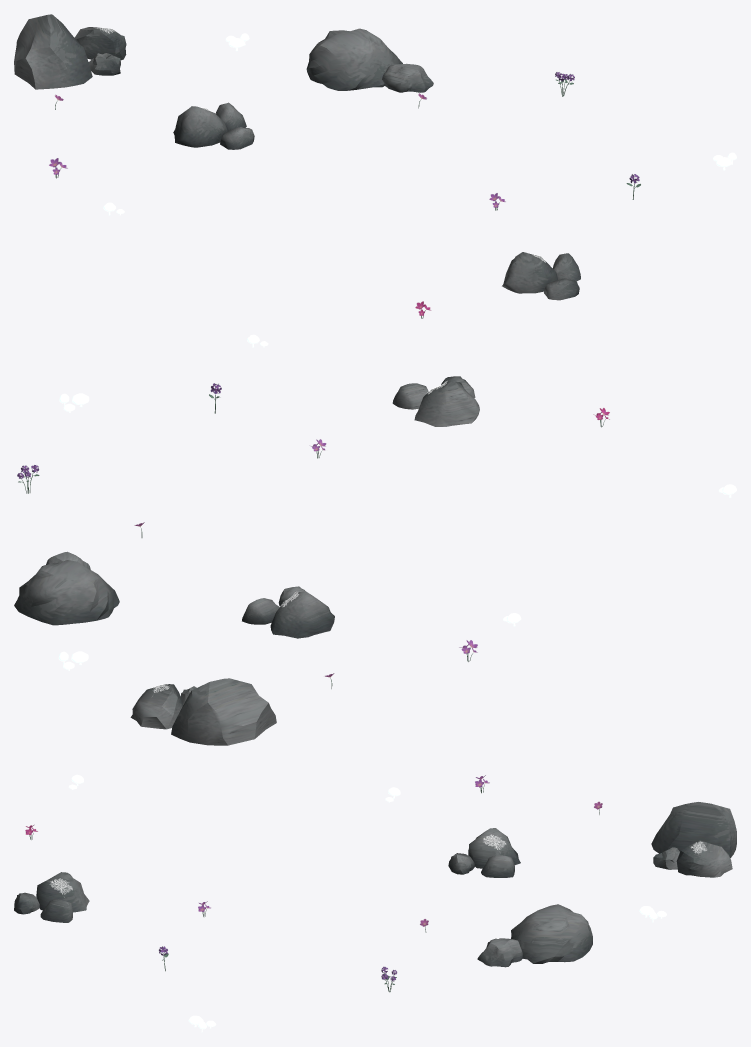
File: chapter1.glb
3 views of the same model, one above another, from view 1: azimuth 30°, elevation 25°; view 2: azimuth 150°, elevation 25°; view 3: azimuth 270°, elevation 25° (orthographic). The views are drawn at different scales.
Visible parts, largest first — view 1: stone-set-1, stone-set-2, stone-set-3, stone-set-3.001; view 2: stone-set-1, stone-set-2, stone-set-3, stone-set-3.001; view 3: stone-set-1, stone-set-2, stone-set-3.001, stone-set-3.
Part boxes in pixels (x1,y1,x2,y2): stone-set-1: (14,14,126,89); stone-set-2: (306,28,433,92); stone-set-3: (173,102,254,149); stone-set-3.001: (502,252,580,300); stone-set-1: (130,678,276,745); stone-set-2: (14,551,119,625); stone-set-3: (242,586,334,638); stone-set-3.001: (392,376,479,426); stone-set-1: (651,802,736,877); stone-set-2: (477,904,592,967); stone-set-3.001: (14,872,89,922); stone-set-3: (448,828,520,877).
Size of the model in its own units: 4.63 by 0.3823 by 5.64.
Materials: 4 (3 with a texture image).
